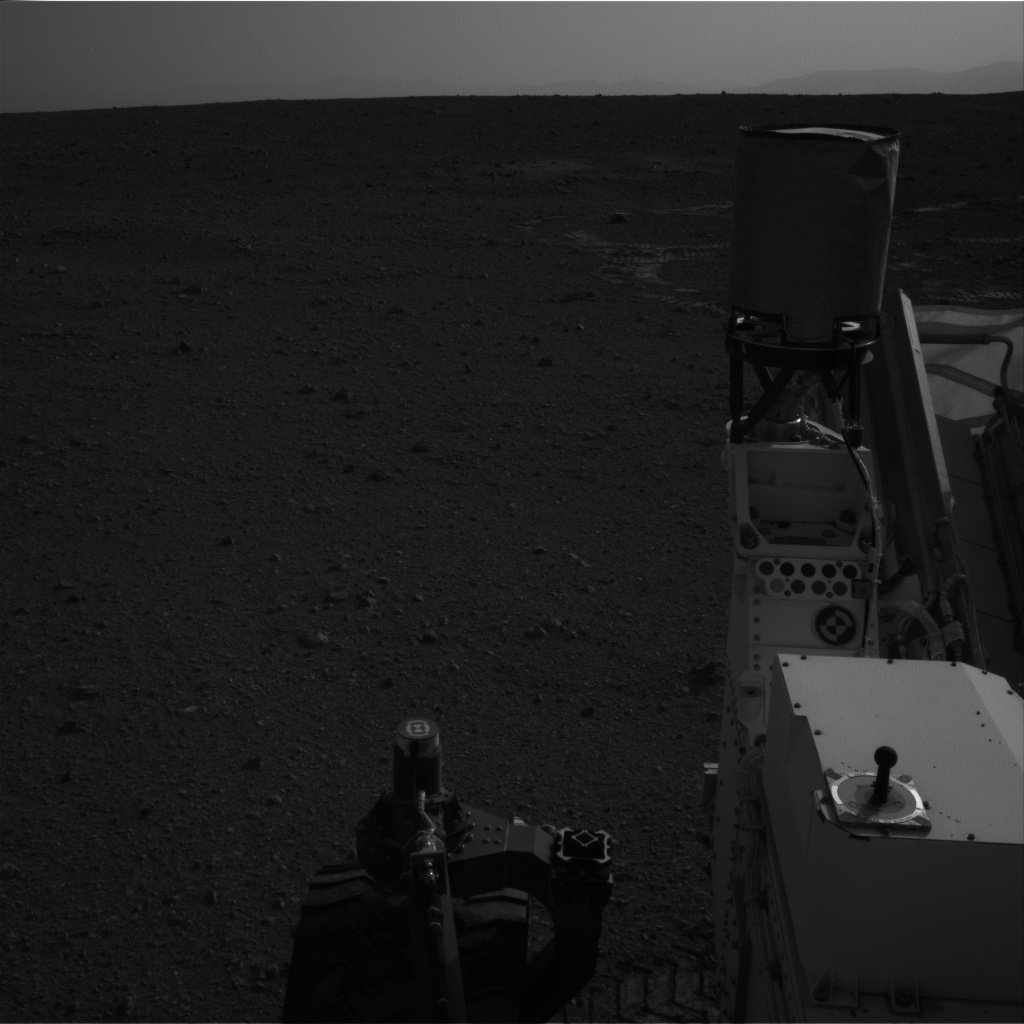soil: (4, 125, 721, 1019), (910, 158, 974, 266), (679, 915, 680, 923), (672, 1013, 673, 1017)
